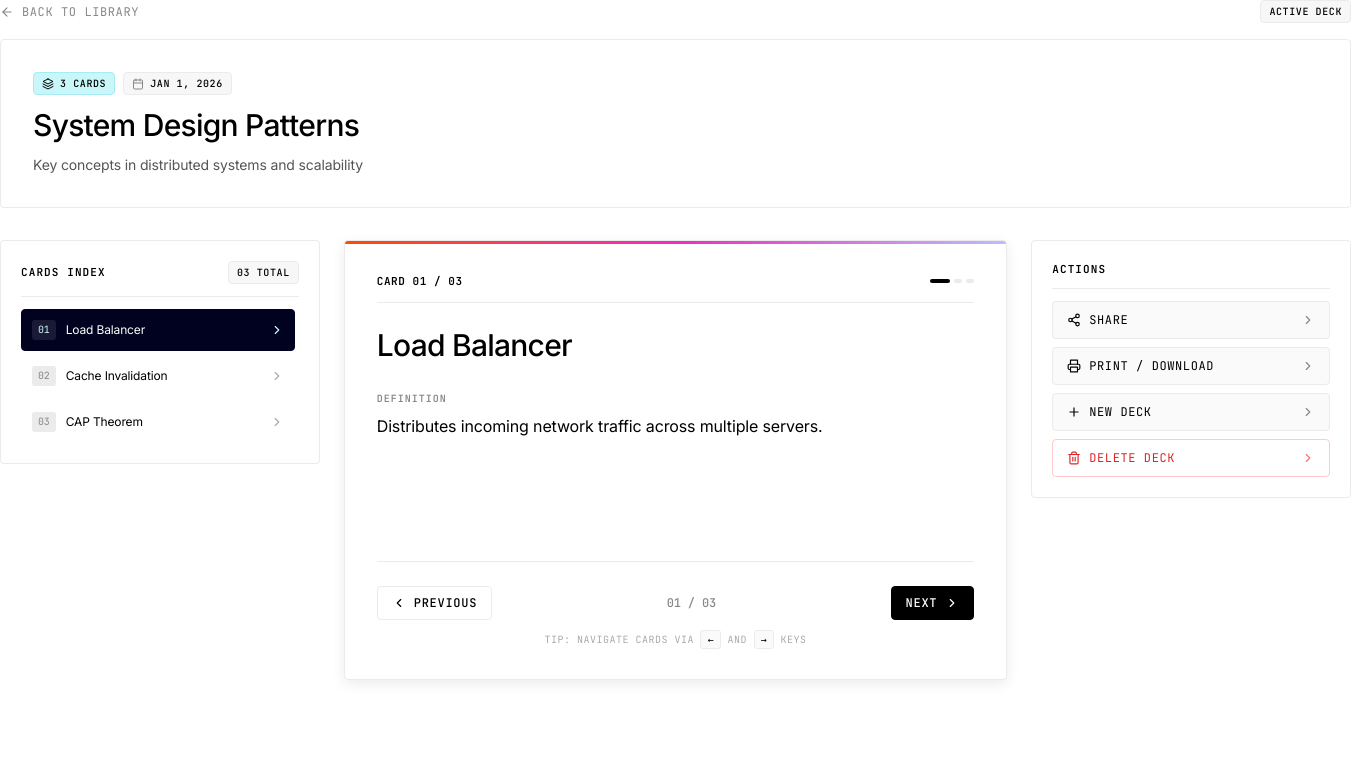
Test: FlashcardDetails component › opens share modal and copies link to clipboard
Click the button "Share" at (1109, 320), box left=1052, top=300, right=1330, bottom=338
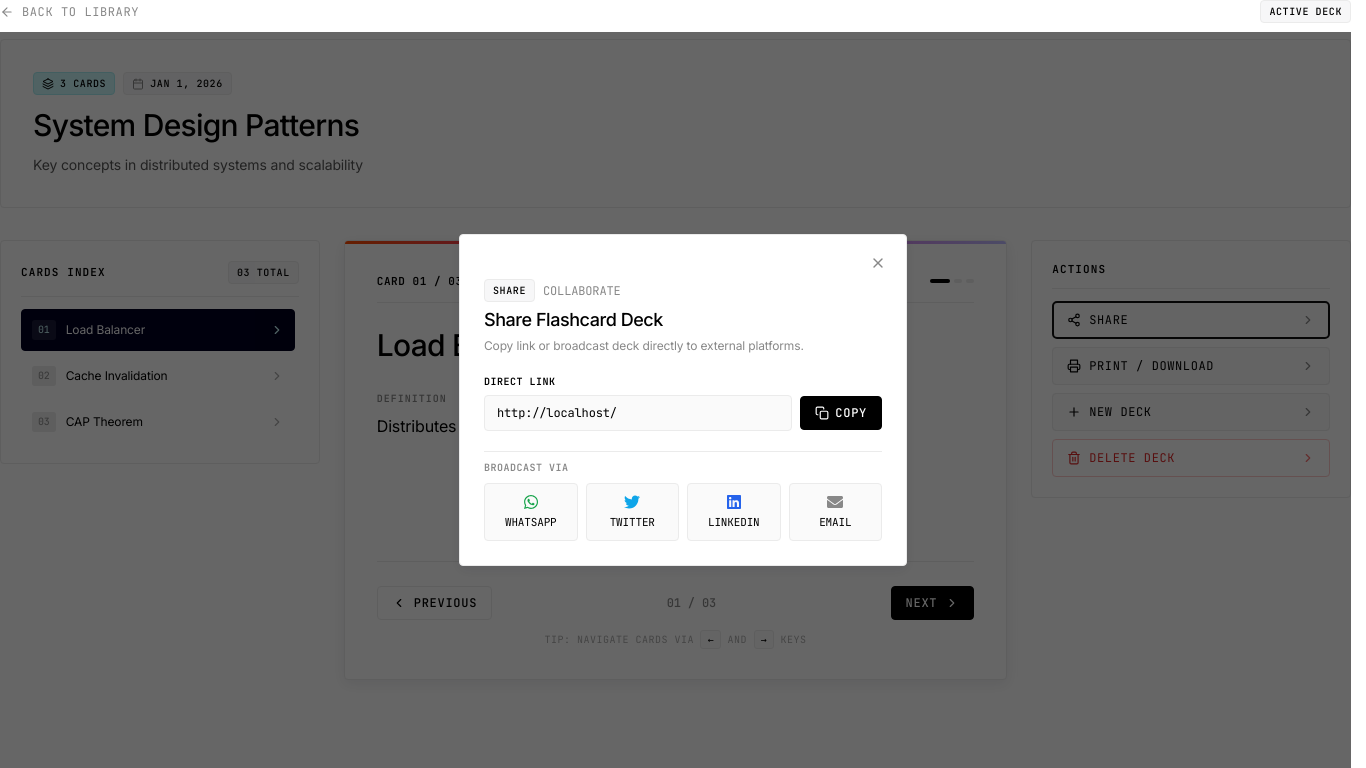
Expected: the heading "Share Flashcard Deck" is shown, left=484, top=309, right=663, bottom=330
Expected: the text "Broadcast via" is shown, left=484, top=461, right=568, bottom=474
Click Copy button
Click the button "Copy" at (841, 413), box left=800, top=396, right=882, bottom=430
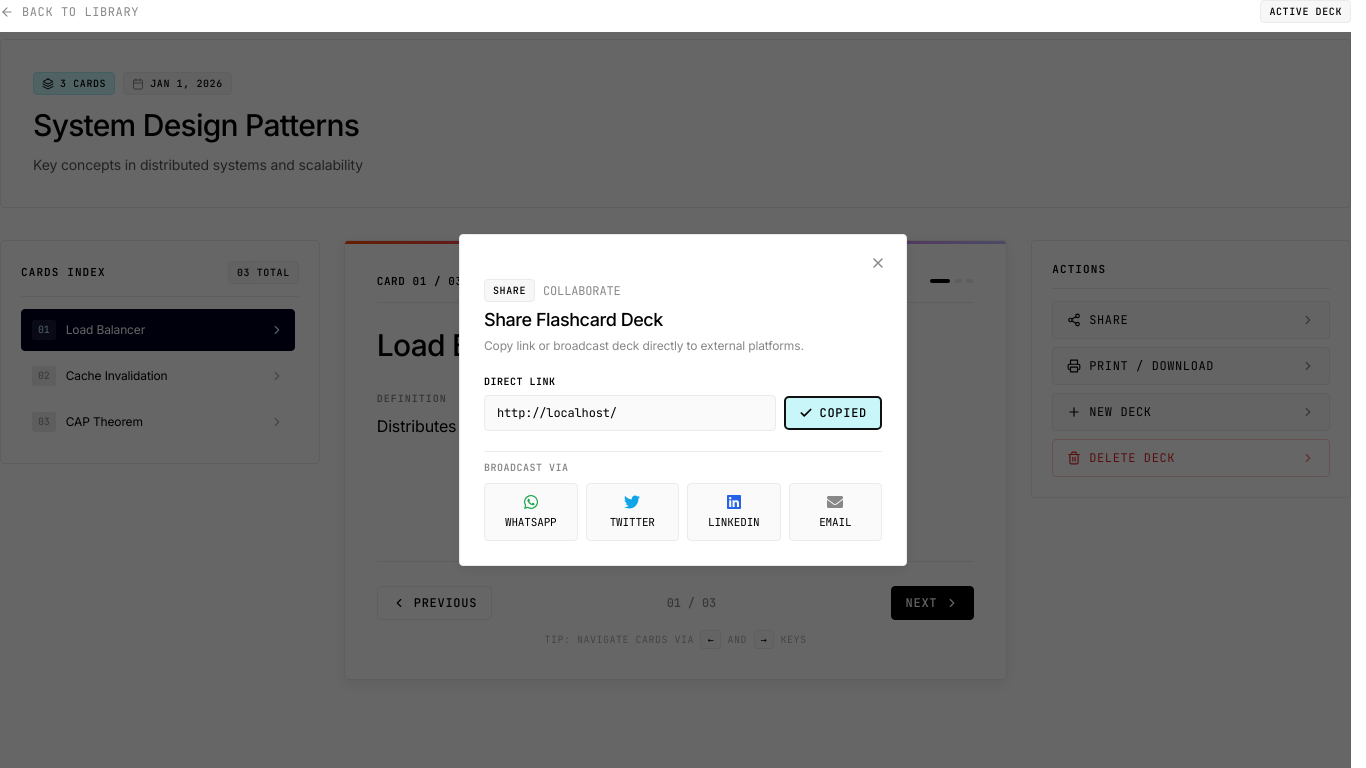
Expected: the text "Copied" is shown, left=820, top=405, right=867, bottom=421
